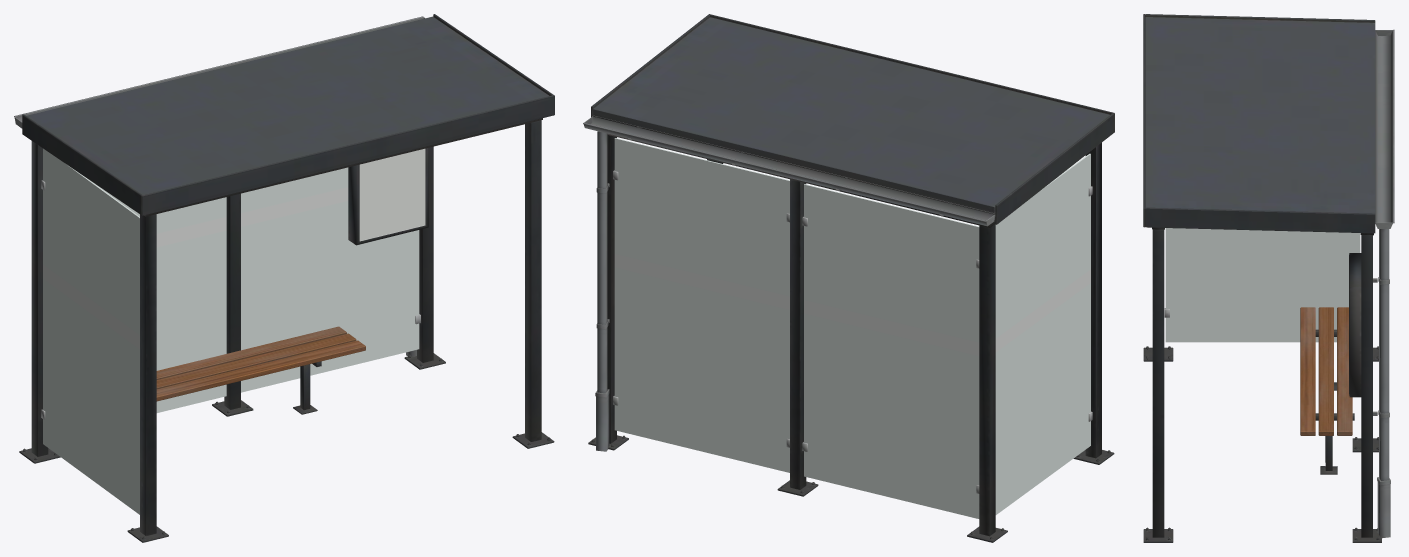
File: p_busstop.glb
3 views of the same model, side by side, from view 1: azimuth 30°, elevation 25°; view 2: azimuth 150°, elevation 25°; view 3: azimuth 270°, elevation 25° (orthographic). The views are drawn at different scales.
Parts seen in each view (by area): view 1: bus-stop-shelter_body, bus-stop-shelter_back_0_glass, bus-stop-shelter_bench; view 2: bus-stop-shelter_back_0_glass, bus-stop-shelter_body; view 3: bus-stop-shelter_body, bus-stop-shelter_back_0_glass, bus-stop-shelter_bench.
Boxes of the visible parts, left/top/right/bottom form: bus-stop-shelter_body: left=14, top=14, right=554, bottom=542; bus-stop-shelter_back_0_glass: left=43, top=148, right=425, bottom=514; bus-stop-shelter_bench: left=156, top=326, right=365, bottom=414; bus-stop-shelter_back_0_glass: left=614, top=138, right=1090, bottom=518; bus-stop-shelter_body: left=583, top=14, right=1114, bottom=542; bus-stop-shelter_body: left=1143, top=14, right=1394, bottom=542; bus-stop-shelter_back_0_glass: left=1165, top=228, right=1360, bottom=342; bus-stop-shelter_bench: left=1300, top=307, right=1354, bottom=474.
Bounding box in the file's own units: 3.13 × 2.52 × 1.71.
3 materials, 2 textured.
